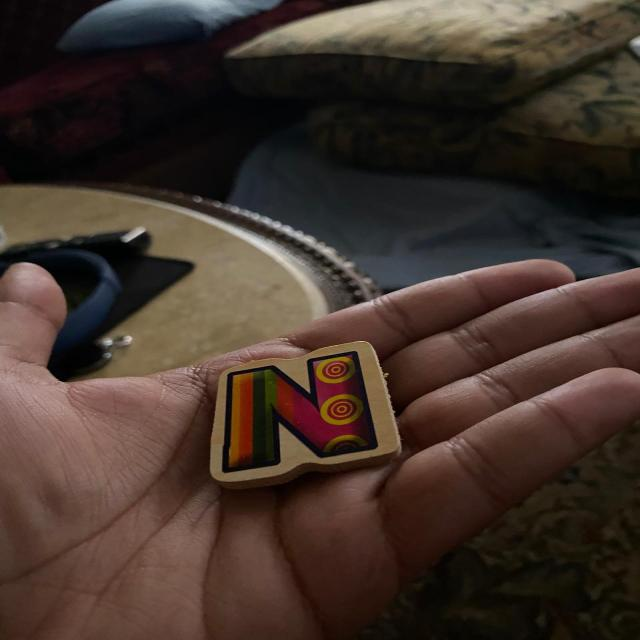N: (211, 342, 399, 489)
